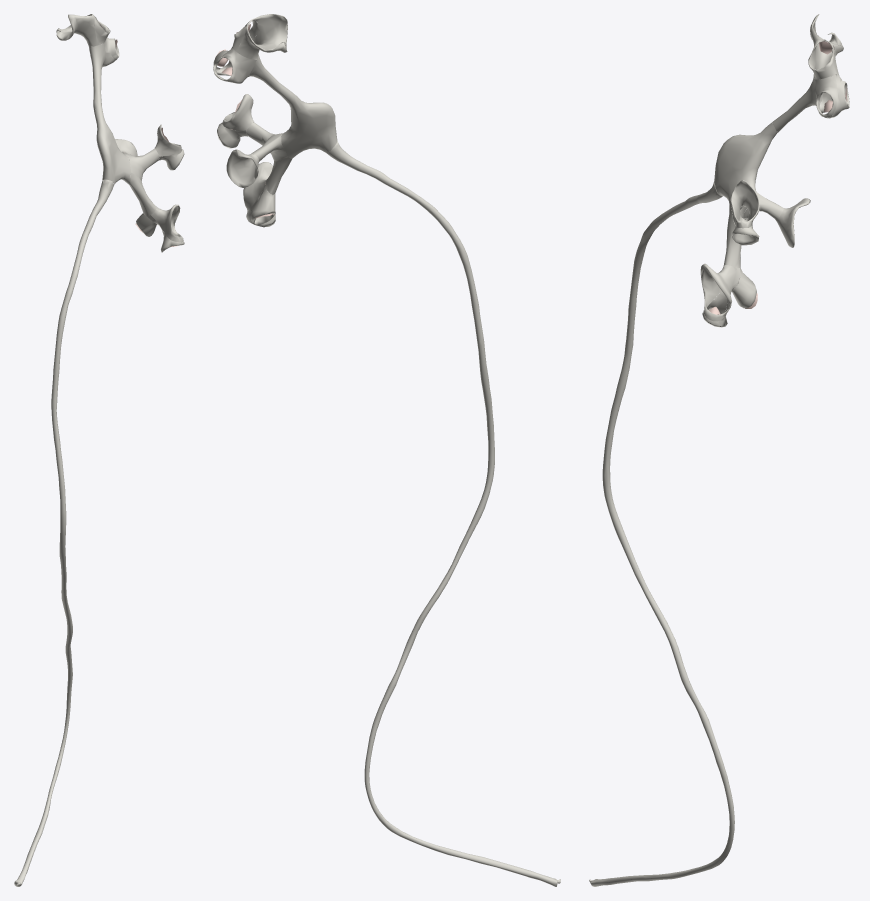
Rendered from vh_f_ureter_l-20.glb.
3 views of the same model, side by side, from view 1: azimuth 30°, elevation 25°; view 2: azimuth 150°, elevation 25°; view 3: azimuth 270°, elevation 25° (orthographic). The views are drawn at different scales.
Visible parts, largest first — view 1: VH_F_left_ureter, VH_F_renal_pelvis_L, VH_F_minor_calyx_L_a, VH_F_major_calyx_L_a, VH_F_minor_calyx_L_h, VH_F_major_calyx_L_d, VH_F_major_calyx_L_c, VH_F_minor_calyx_L_f; view 2: VH_F_left_ureter, VH_F_renal_pelvis_L, VH_F_minor_calyx_L_a, VH_F_minor_calyx_L_e, VH_F_minor_calyx_L_c, VH_F_minor_calyx_L_f; view 3: VH_F_left_ureter, VH_F_renal_pelvis_L, VH_F_minor_calyx_L_h, VH_F_minor_calyx_L_f, VH_F_major_calyx_L_a, VH_F_minor_calyx_L_a, VH_F_minor_calyx_L_e, VH_F_major_calyx_L_d, VH_F_minor_calyx_L_i, VH_F_minor_calyx_L_d, VH_F_minor_calyx_L_c, VH_F_minor_calyx_L_b (+1 smaller).
Boxes of the visible parts, left/top/right/bottom form: VH_F_left_ureter: left=14, top=180, right=113, bottom=886; VH_F_renal_pelvis_L: left=94, top=106, right=130, bottom=184; VH_F_minor_calyx_L_a: left=56, top=14, right=99, bottom=48; VH_F_major_calyx_L_a: left=89, top=43, right=105, bottom=111; VH_F_minor_calyx_L_h: left=151, top=204, right=183, bottom=242; VH_F_major_calyx_L_d: left=129, top=172, right=156, bottom=216; VH_F_major_calyx_L_c: left=128, top=148, right=159, bottom=180; VH_F_minor_calyx_L_f: left=154, top=124, right=181, bottom=156; VH_F_left_ureter: left=326, top=141, right=560, bottom=886; VH_F_renal_pelvis_L: left=281, top=94, right=337, bottom=158; VH_F_minor_calyx_L_a: left=236, top=14, right=287, bottom=59; VH_F_minor_calyx_L_e: left=226, top=149, right=259, bottom=187; VH_F_minor_calyx_L_c: left=213, top=48, right=256, bottom=83; VH_F_minor_calyx_L_f: left=222, top=94, right=253, bottom=130; VH_F_left_ureter: left=589, top=181, right=734, bottom=886; VH_F_renal_pelvis_L: left=714, top=122, right=777, bottom=215; VH_F_minor_calyx_L_h: left=700, top=263, right=736, bottom=321; VH_F_minor_calyx_L_f: left=730, top=180, right=759, bottom=228; VH_F_major_calyx_L_a: left=772, top=77, right=822, bottom=132; VH_F_minor_calyx_L_a: left=810, top=14, right=843, bottom=74; VH_F_minor_calyx_L_e: left=777, top=198, right=810, bottom=247; VH_F_major_calyx_L_d: left=723, top=203, right=743, bottom=267; VH_F_minor_calyx_L_i: left=731, top=268, right=756, bottom=308; VH_F_minor_calyx_L_d: left=815, top=74, right=837, bottom=117; VH_F_minor_calyx_L_c: left=815, top=73, right=849, bottom=118; VH_F_minor_calyx_L_b: left=808, top=39, right=838, bottom=79.
Bounding box in the file's own units: 0.0825 × 0.266 × 0.0672.
